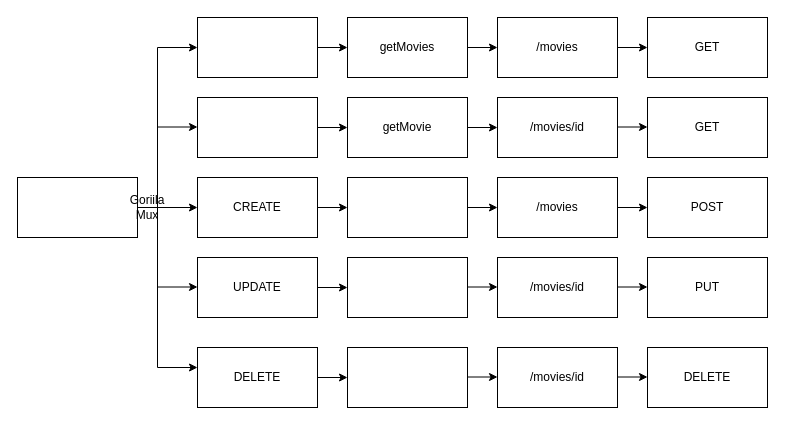
This 785x425 diagram has some shape labels left out. Each missing label, with the box of its shape:
createMovie: (346, 176, 468, 238)
deleteMovie: (346, 346, 468, 408)
GET ALL: (196, 16, 318, 78)
GET BY ID: (196, 96, 318, 158)
MOVIE SERVER: (16, 176, 138, 238)
updateMovie: (346, 256, 468, 318)
